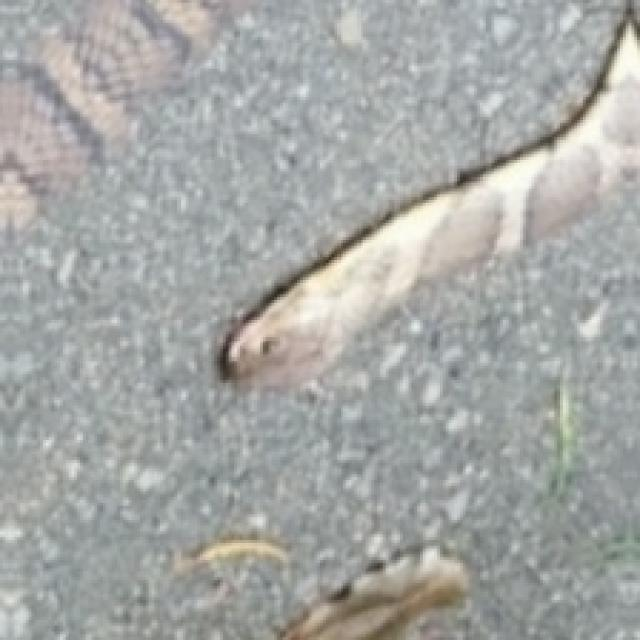king cobra: (0, 0, 623, 380), (220, 14, 637, 386)
